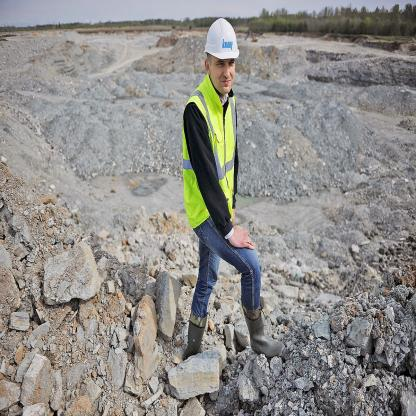person: (171, 6, 286, 374)
